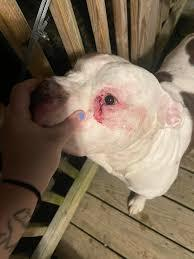cut: (86, 86, 115, 132)
